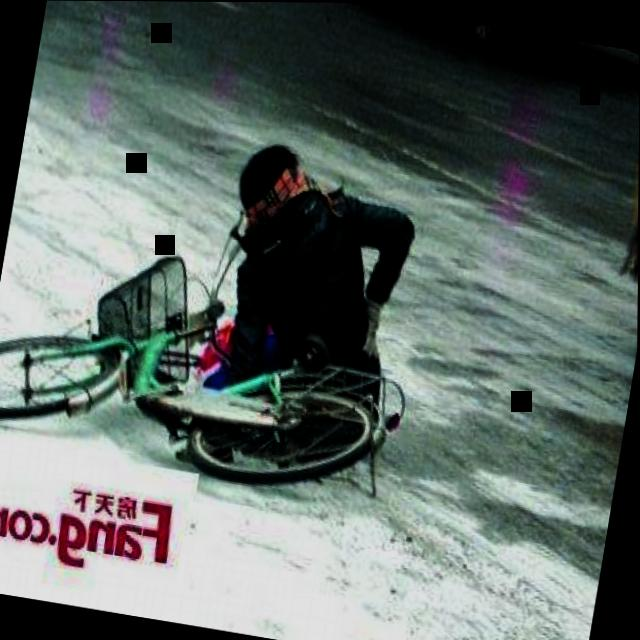Fall-Detected: (180, 110, 452, 436)
